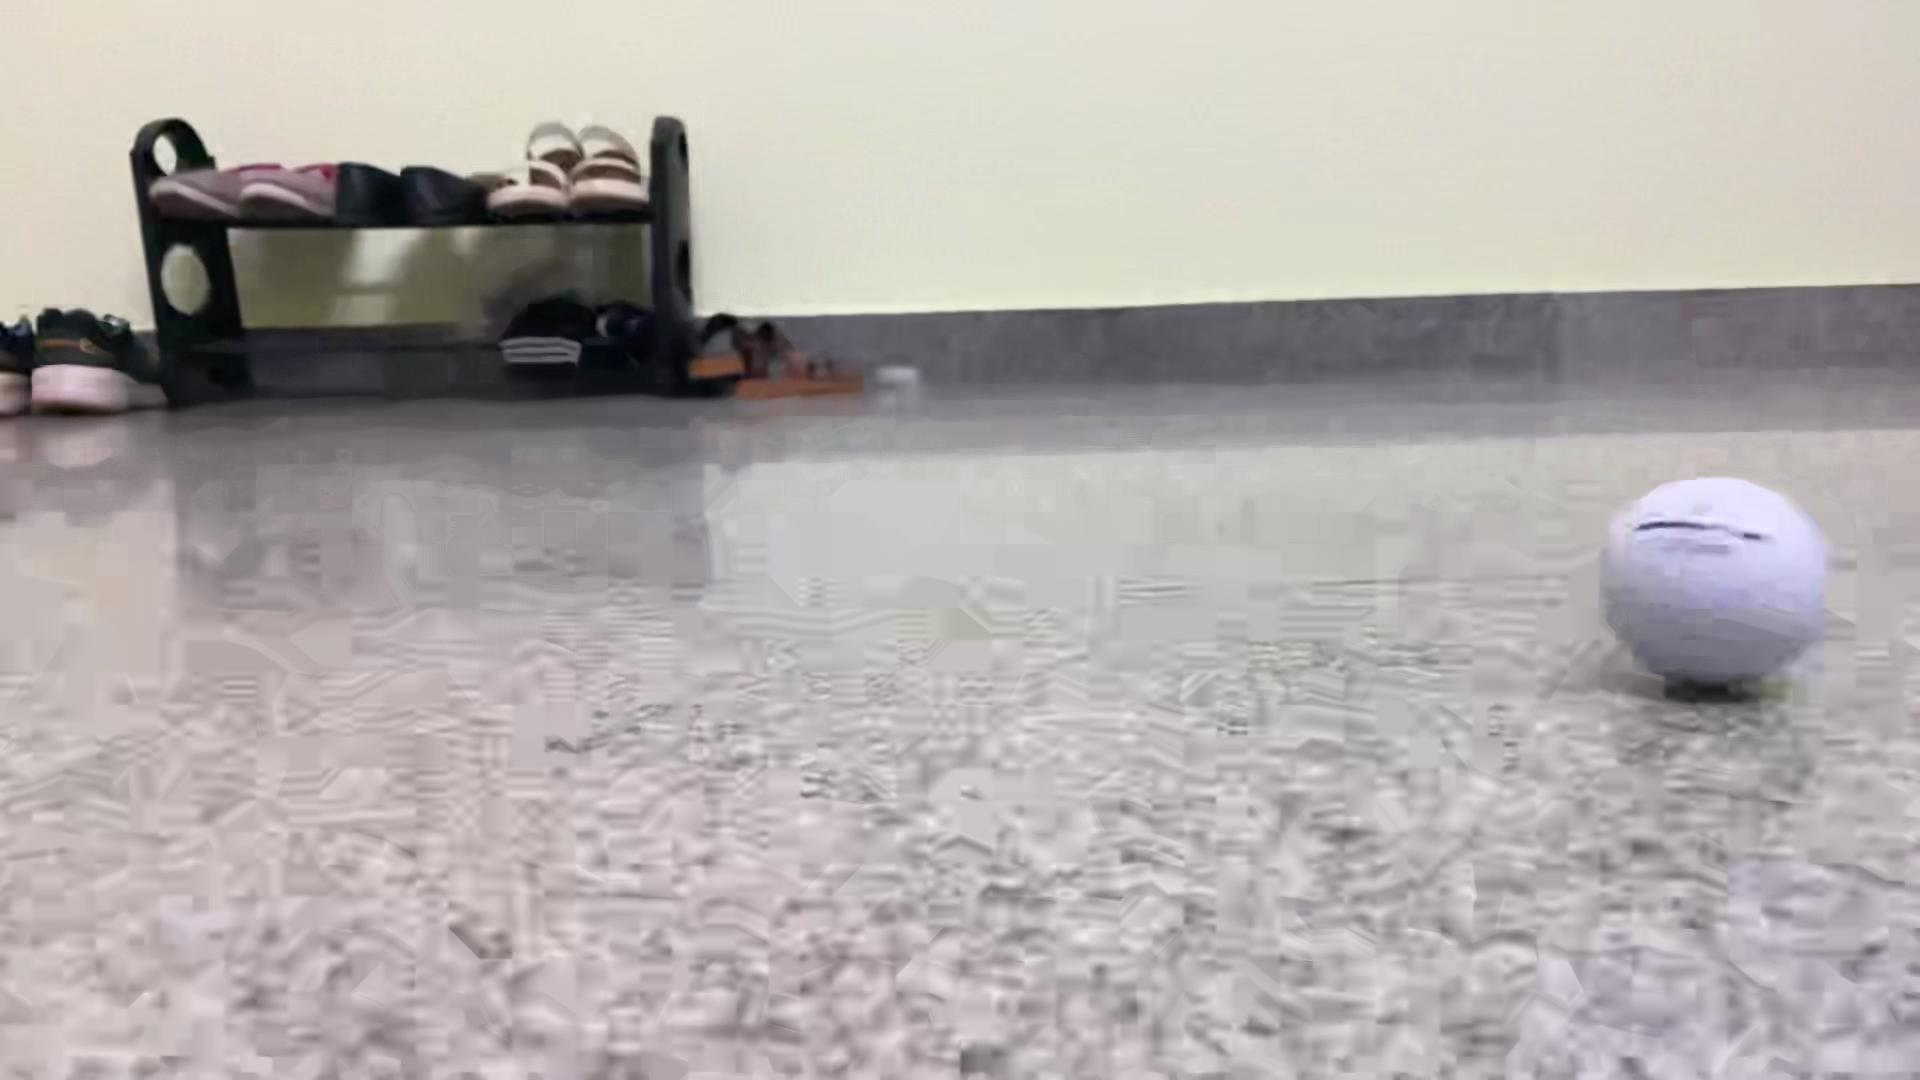golfball: (1598, 478, 1828, 689)
